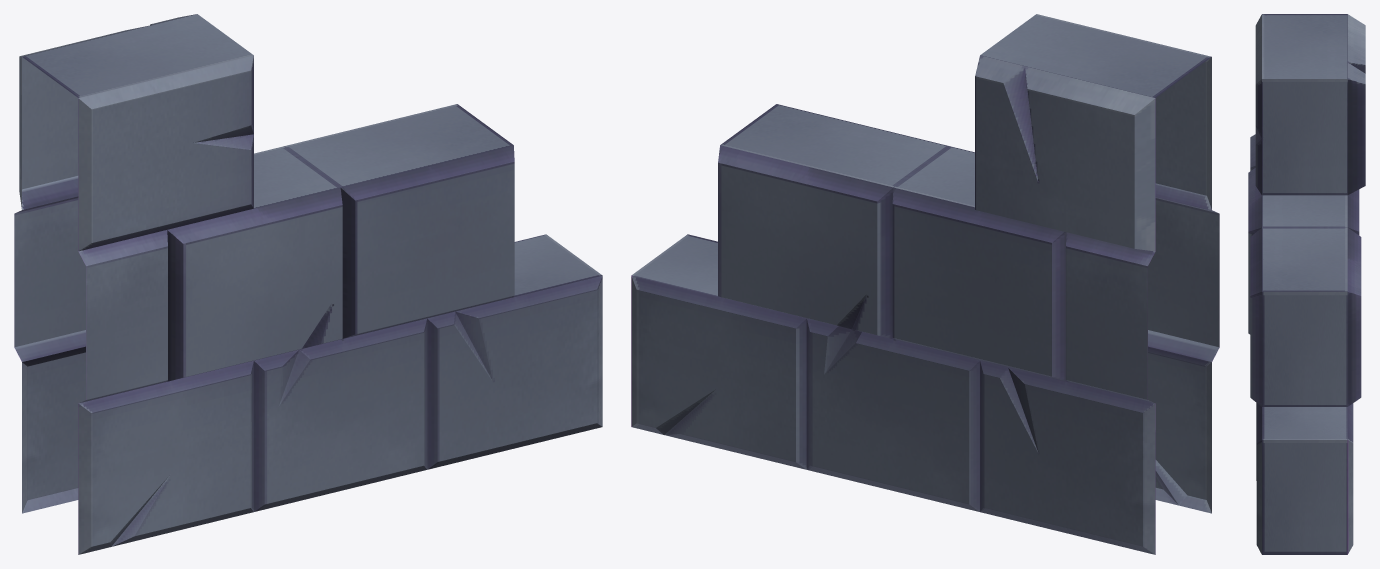
Rendered from wall4.fbx.
3 renders of one model, left to right at view 1: azimuth 30°, elevation 25°; view 2: azimuth 150°, elevation 25°; view 3: azimuth 270°, elevation 25°, orthographic. The views are drawn at different scales.
Visible parts, largest first — view 1: ModularAssetsDisplay.009; view 2: ModularAssetsDisplay.009; view 3: ModularAssetsDisplay.009.
Boxes of the visible parts, box(x1,y1,x2,y2) form: ModularAssetsDisplay.009: box(14, 14, 602, 554); ModularAssetsDisplay.009: box(631, 14, 1219, 554); ModularAssetsDisplay.009: box(1248, 14, 1365, 554).
Bounding box in the file's own units: 100 × 83.26 × 25.56.
